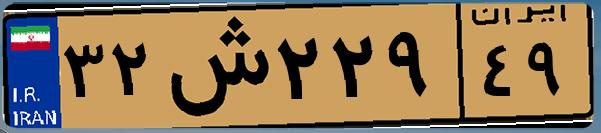2: (270, 28, 330, 110), (330, 28, 385, 110), (110, 28, 158, 98)
3: (57, 26, 110, 100)
4: (475, 38, 525, 113)
9: (385, 28, 445, 110), (525, 38, 570, 115)
ش: (158, 12, 270, 120)
